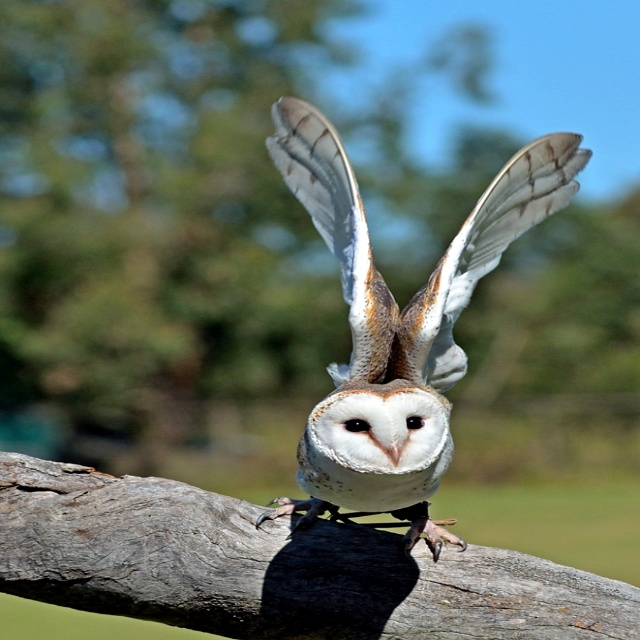Owl: (253, 92, 598, 563)
